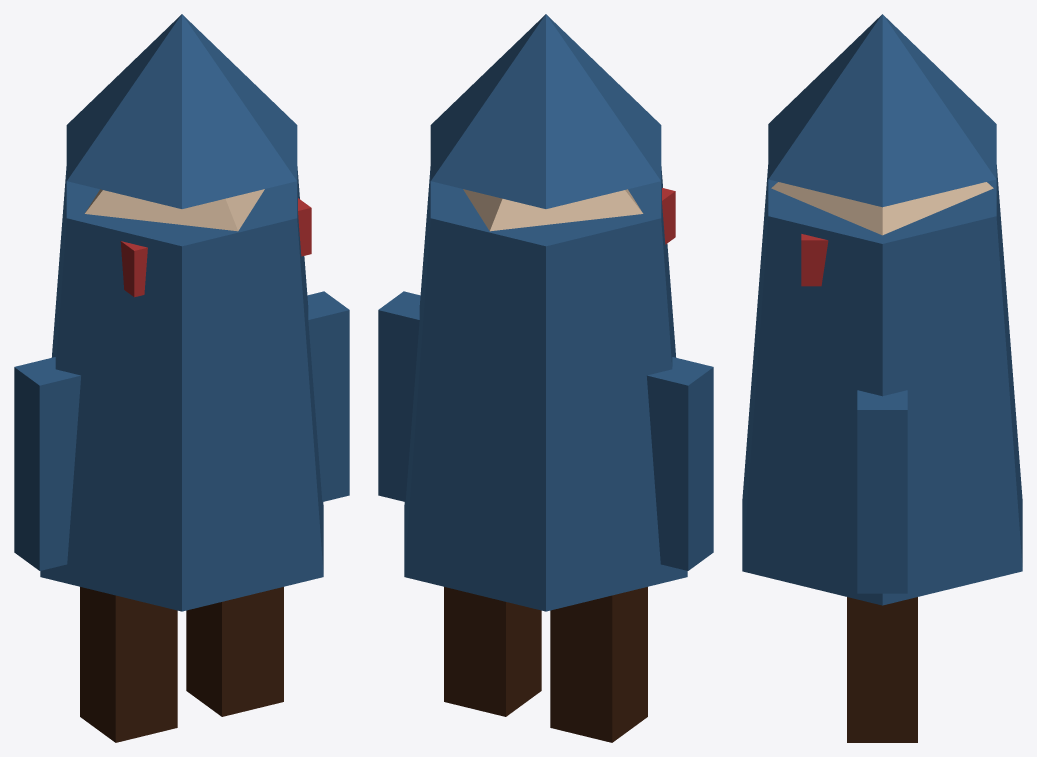
Rendered from citizen_a.glb.
3 renders of one model, left to right at view 1: azimuth 30°, elevation 25°; view 2: azimuth 150°, elevation 25°; view 3: azimuth 270°, elevation 25°, orthographic.
Visible parts, largest first — view 1: citizen_a; view 2: citizen_a; view 3: citizen_a.
Boxes of the visible parts, x1,y1,x2,y2 form: citizen_a: (14, 14, 349, 742); citizen_a: (378, 14, 713, 742); citizen_a: (742, 14, 1022, 742).
Size of the model in its own units: 0.35 by 0.75 by 0.2771.
